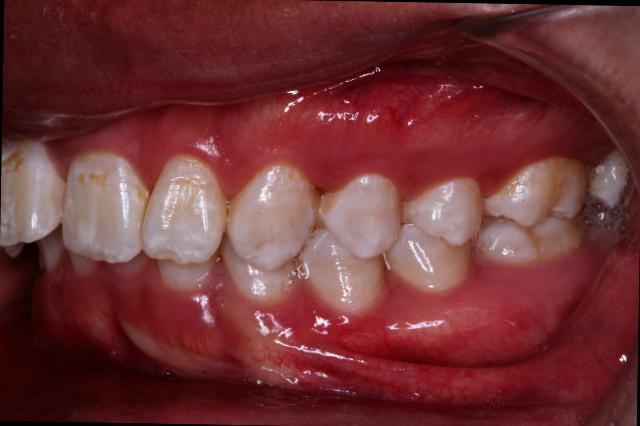canine class II 1/2: (216, 153, 391, 324)
molar class I: (474, 144, 592, 269)
